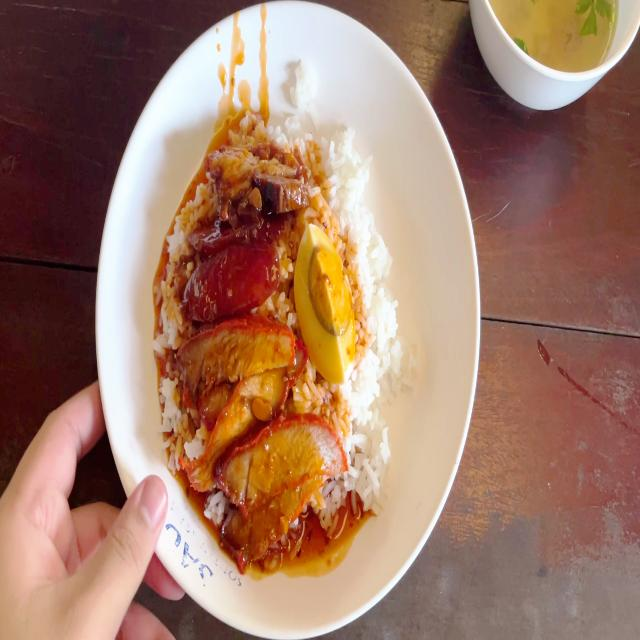boiled_egg: (304, 229, 352, 380)
chainese_sausage: (182, 212, 278, 306)
crispy_pork: (211, 139, 298, 207)
red_pork: (184, 308, 299, 540), (291, 414, 338, 504)
red_pork_and_crispy_pork: (166, 130, 387, 514)
rice: (356, 213, 396, 387), (308, 130, 374, 222), (347, 387, 388, 502)
